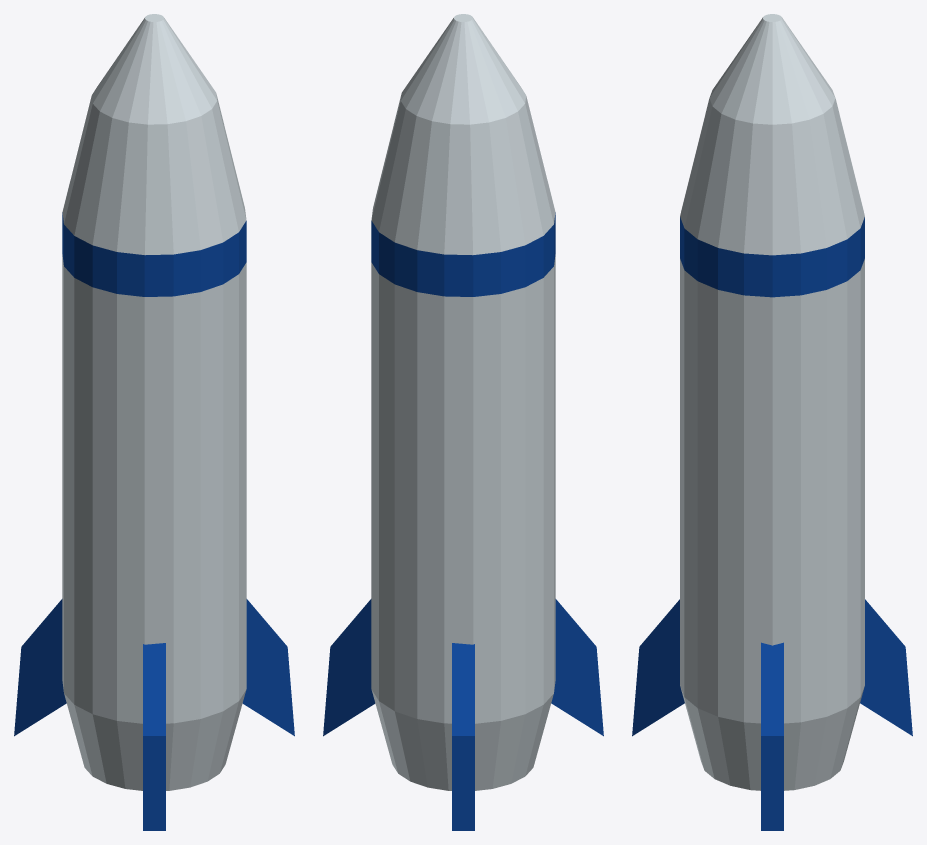
File: rocket-display.obj
3 views of the same model, side by side, from view 1: azimuth 30°, elevation 25°; view 2: azimuth 150°, elevation 25°; view 3: azimuth 270°, elevation 25° (orthographic).
Size of the model in its own units: 0.59 by 1.96 by 0.6679.
